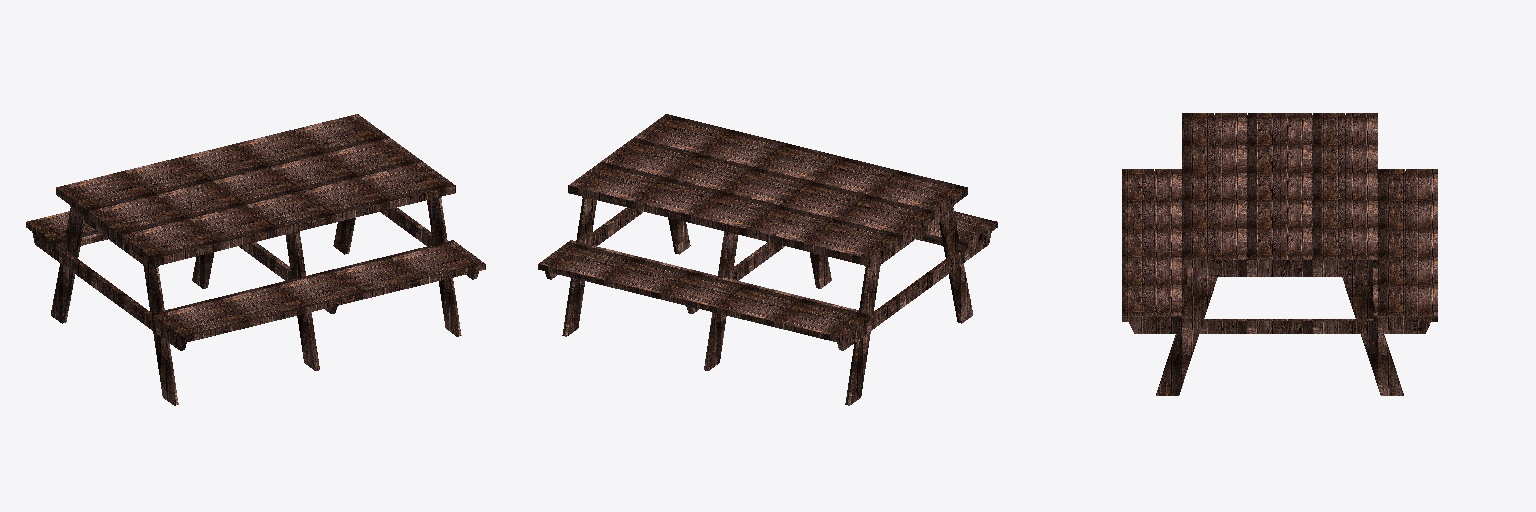
The picture shows the model from 3 angles: view 1: azimuth 30°, elevation 25°; view 2: azimuth 150°, elevation 25°; view 3: azimuth 270°, elevation 25°; orthographic projection.
Parts seen in each view (by area): view 1: Rectangle073; view 2: Rectangle073; view 3: Rectangle073.
Boxes of the visible parts, box(x1,y1,x2,y2) form: Rectangle073: box(26, 114, 485, 405); Rectangle073: box(538, 114, 997, 405); Rectangle073: box(1122, 113, 1437, 395).
Bounding box in the file's own units: 1600 × 706 × 1452.
Materials: 1 (1 with a texture image).